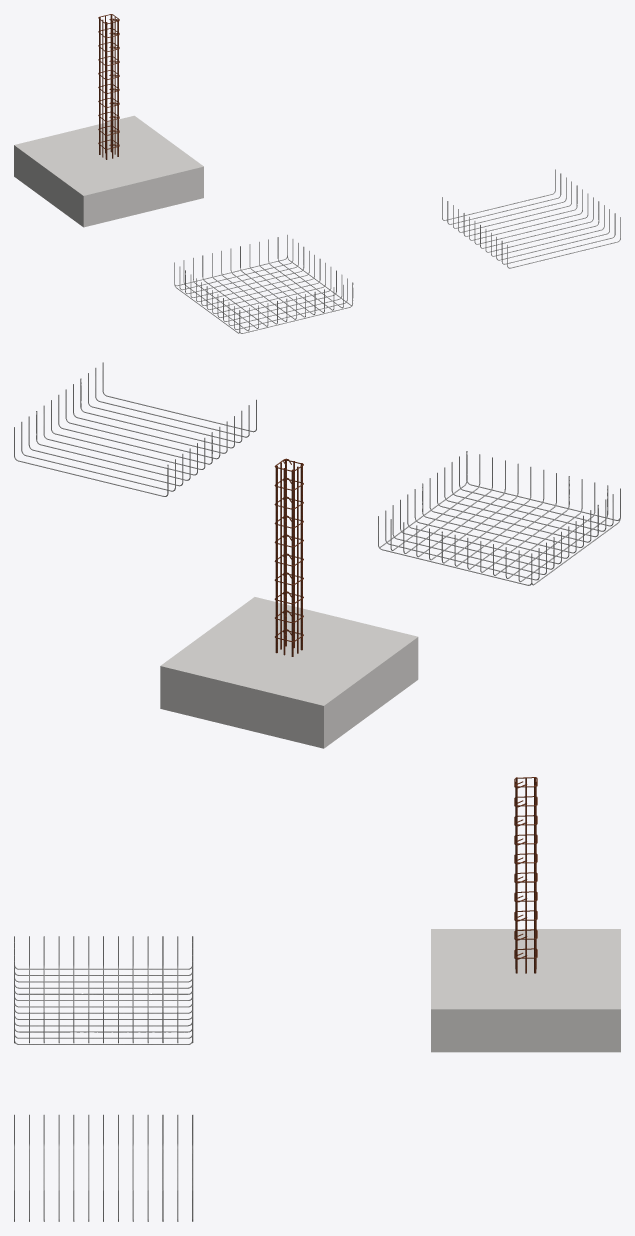
The picture shows the model from 3 angles, top to bottom: view 1: azimuth 30°, elevation 25°; view 2: azimuth 150°, elevation 25°; view 3: azimuth 270°, elevation 25°; orthographic projection. The views are drawn at different scales.
Parts seen in each view (by area): view 1: Footing-Rectangular 1800 x 1800 x 450mm [329140]001, Rebar Bar Structural Rebar 1 : Shape 21 [355525]_[319274]001, Rebar Bar Structural Rebar 1 : Shape 21 [355539]_[319274]001, Rebar Bar Structural Rebar 1 : Shape 21 [355538]_[319274]001, Rebar Bar H10 : Shape 52 [368273]_[319274]001; view 2: Footing-Rectangular 1800 x 1800 x 450mm [329140]001, Rebar Bar Structural Rebar 1 : Shape 21 [355525]_[319274]001, Rebar Bar Structural Rebar 1 : Shape 21 [355539]_[319274]001, Rebar Bar Structural Rebar 1 : Shape 21 [355538]_[319274]001, Rebar Bar H10 : Shape 52 [368273]_[319274]001, Rebar Bar H20 : Shape Rebar Shape 1 [368274]_[319274]001, Rebar Bar H20 : Shape Rebar Shape 1 [368277]_[319274]001, Rebar Bar H20 : Shape Rebar Shape 1 [368275]_[319274]001, Rebar Bar H16 : Shape Rebar Shape 1 [368278]_[319274]001; view 3: Footing-Rectangular 1800 x 1800 x 450mm [329140]001, Rebar Bar Structural Rebar 1 : Shape 21 [355538]_[319274]001, Rebar Bar Structural Rebar 1 : Shape 21 [355525]_[319274]001, Rebar Bar Structural Rebar 1 : Shape 21 [355539]_[319274]001, Rebar Bar H10 : Shape 52 [368273]_[319274]001.
Part boxes in pixels (<box>): Footing-Rectangular 1800 x 1800 x 450mm [329140]001: <box>14,115,203,227</box>; Rebar Bar Structural Rebar 1 : Shape 21 [355525]_[319274]001: <box>442,169,620,268</box>; Rebar Bar Structural Rebar 1 : Shape 21 [355539]_[319274]001: <box>174,235,353,333</box>; Rebar Bar Structural Rebar 1 : Shape 21 [355538]_[319274]001: <box>174,234,353,333</box>; Rebar Bar H10 : Shape 52 [368273]_[319274]001: <box>98,14,119,149</box>; Footing-Rectangular 1800 x 1800 x 450mm [329140]001: <box>160,597,418,748</box>; Rebar Bar Structural Rebar 1 : Shape 21 [355525]_[319274]001: <box>14,362,256,496</box>; Rebar Bar Structural Rebar 1 : Shape 21 [355539]_[319274]001: <box>378,451,619,585</box>; Rebar Bar Structural Rebar 1 : Shape 21 [355538]_[319274]001: <box>378,451,620,585</box>; Rebar Bar H10 : Shape 52 [368273]_[319274]001: <box>274,458,303,642</box>; Rebar Bar H20 : Shape Rebar Shape 1 [368274]_[319274]001: <box>291,469,293,656</box>; Rebar Bar H20 : Shape Rebar Shape 1 [368277]_[319274]001: <box>300,463,302,650</box>; Rebar Bar H20 : Shape Rebar Shape 1 [368275]_[319274]001: <box>275,465,277,653</box>; Rebar Bar H16 : Shape Rebar Shape 1 [368278]_[319274]001: <box>283,468,285,655</box>; Footing-Rectangular 1800 x 1800 x 450mm [329140]001: <box>431,929,620,1052</box>; Rebar Bar Structural Rebar 1 : Shape 21 [355538]_[319274]001: <box>14,936,193,1044</box>; Rebar Bar Structural Rebar 1 : Shape 21 [355525]_[319274]001: <box>14,1114,193,1221</box>; Rebar Bar Structural Rebar 1 : Shape 21 [355539]_[319274]001: <box>14,936,193,1043</box>; Rebar Bar H10 : Shape 52 [368273]_[319274]001: <box>514,777,537,959</box>.
Size of the model in its own units: 5.75 by 2.41 by 5.75.
Materials: 3 (1 with a texture image).
